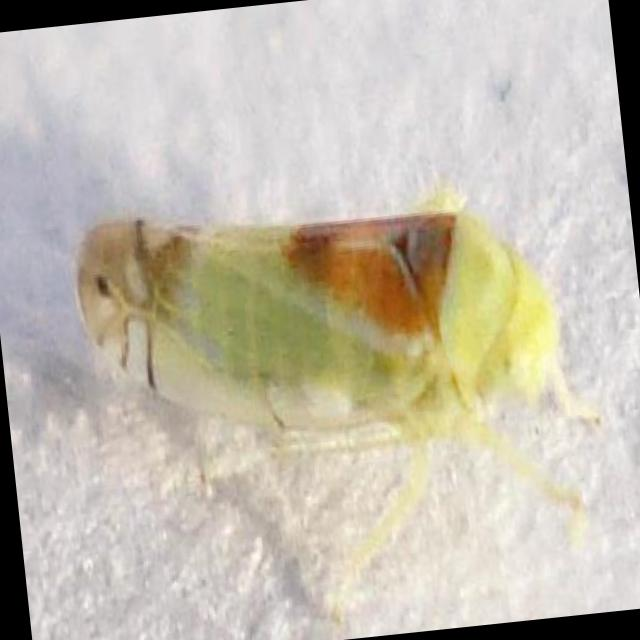green-leafhopper: (70, 170, 571, 475)
